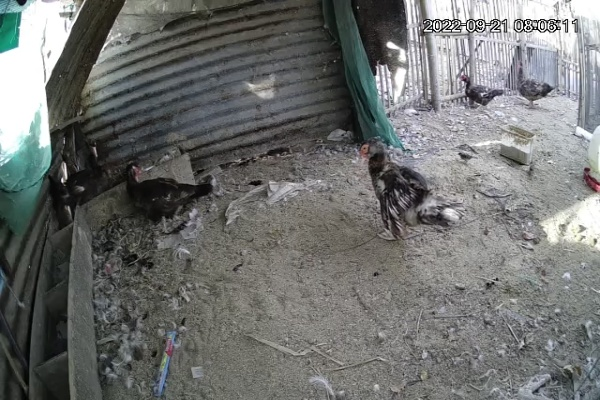Entog: (354, 136, 465, 241), (120, 157, 220, 232), (515, 59, 557, 111), (458, 72, 502, 110)
